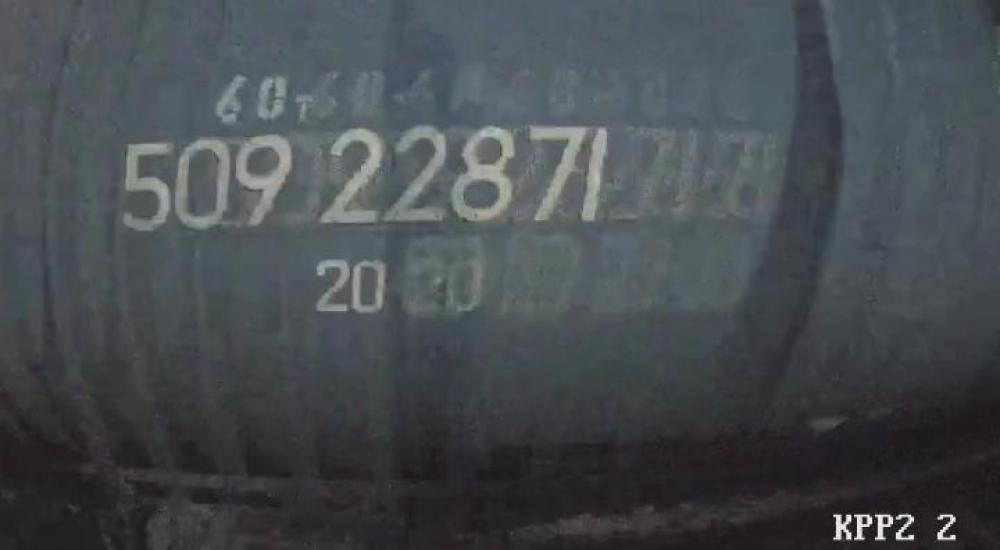Wagon-number: (116, 119, 617, 241)
